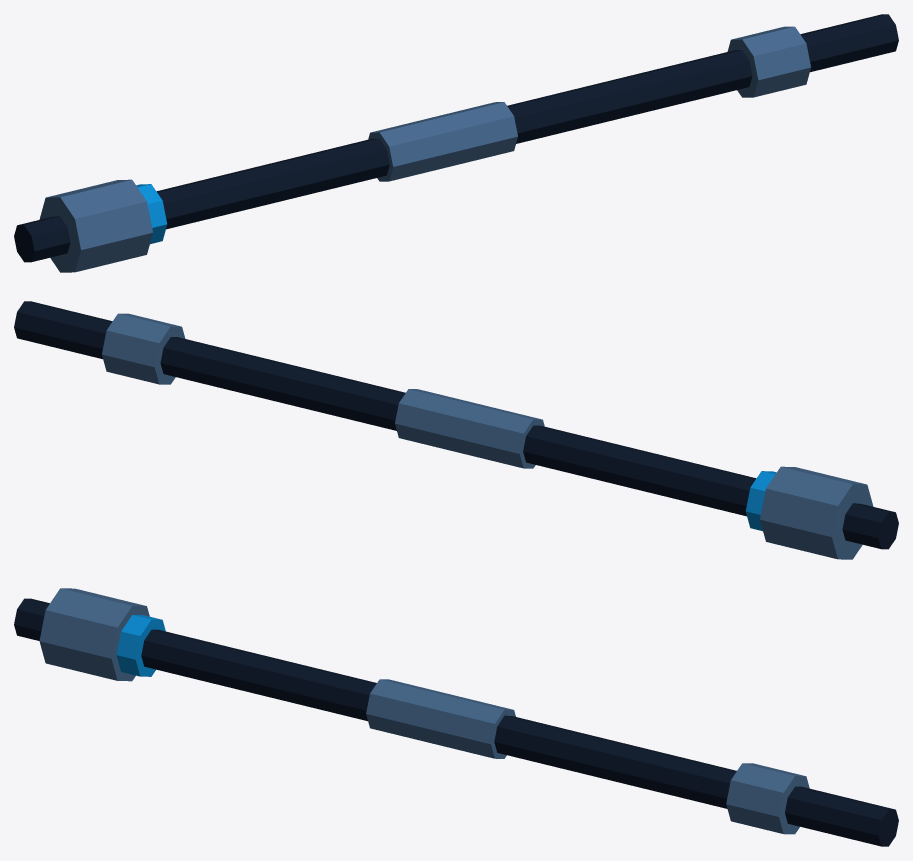
File: spear_shaft.obj
3 views of the same model, one above another, from view 1: azimuth 30°, elevation 25°; view 2: azimuth 150°, elevation 25°; view 3: azimuth 330°, elevation 25° (orthographic).
Parts seen in each view (by area): view 1: Spear_Shaft_material_0, Spear_Collar_Front_material_0, Spear_Grip_material_0, Spear_Collar_Rear_material_0, Spear_CyanJoint_material_0; view 2: Spear_Shaft_material_0, Spear_Collar_Front_material_0, Spear_Grip_material_0, Spear_Collar_Rear_material_0, Spear_CyanJoint_material_0; view 3: Spear_Shaft_material_0, Spear_Grip_material_0, Spear_Collar_Front_material_0, Spear_Collar_Rear_material_0, Spear_CyanJoint_material_0.
Boxes of the visible parts, bbox=[...] form: Spear_Shaft_material_0: bbox=[14, 14, 898, 262]; Spear_Collar_Front_material_0: bbox=[39, 179, 152, 272]; Spear_Grip_material_0: bbox=[368, 102, 517, 181]; Spear_Collar_Rear_material_0: bbox=[727, 26, 810, 97]; Spear_CyanJoint_material_0: bbox=[136, 184, 167, 244]; Spear_Shaft_material_0: bbox=[14, 301, 898, 549]; Spear_Collar_Front_material_0: bbox=[760, 466, 873, 559]; Spear_Grip_material_0: bbox=[395, 389, 544, 468]; Spear_Collar_Rear_material_0: bbox=[102, 313, 185, 384]; Spear_CyanJoint_material_0: bbox=[745, 471, 776, 531]; Spear_Shaft_material_0: bbox=[14, 598, 898, 846]; Spear_Grip_material_0: bbox=[366, 679, 515, 758]; Spear_Collar_Front_material_0: bbox=[39, 588, 149, 681]; Spear_Collar_Rear_material_0: bbox=[726, 763, 809, 834]; Spear_CyanJoint_material_0: bbox=[116, 615, 165, 676].
Size of the model in its own units: 1.8 by 0.15 by 0.15.
